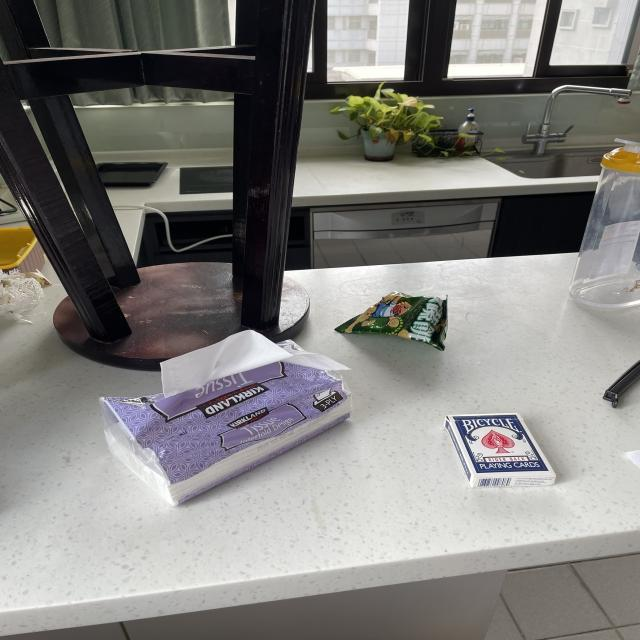tissue: (96, 326, 355, 506)
